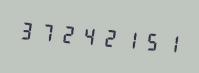five: (137, 23, 156, 57)
four: (77, 18, 96, 52)
one: (117, 21, 136, 56), (157, 25, 176, 59)
seven: (37, 14, 56, 49)
three: (17, 12, 36, 47)
two: (97, 19, 116, 54), (57, 16, 76, 50)
